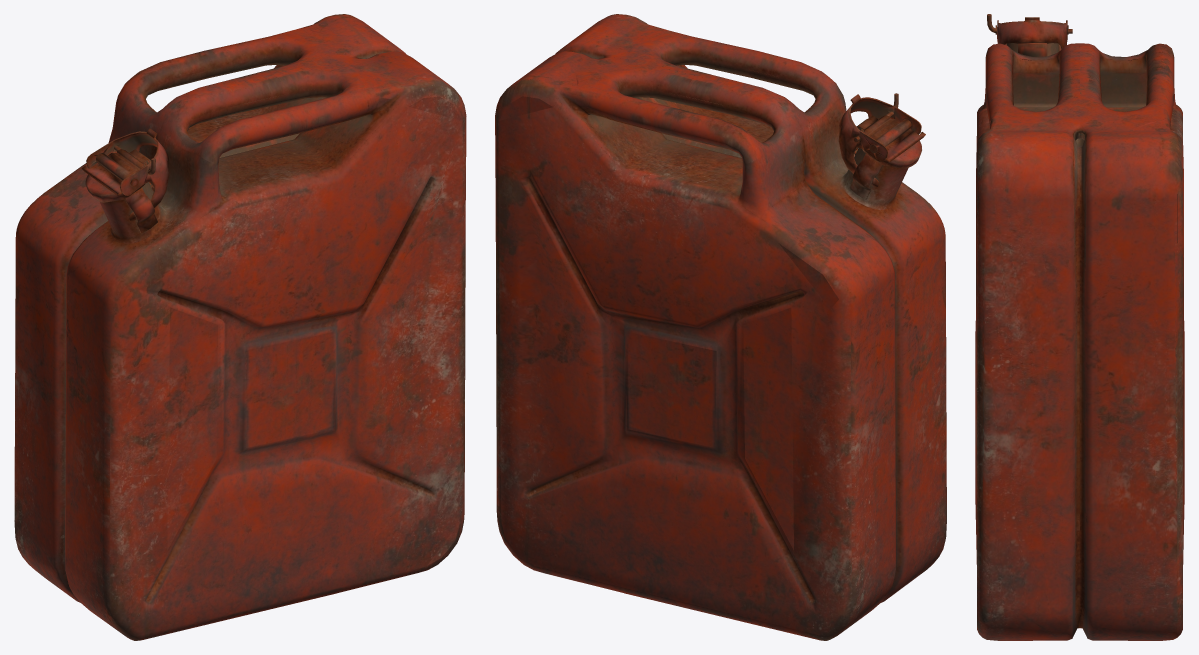
Rendered from metal_jerrycan_game.gltf.
The picture shows the model from 3 angles, left to right: view 1: azimuth 30°, elevation 25°; view 2: azimuth 150°, elevation 25°; view 3: azimuth 270°, elevation 25°; orthographic projection. The views are drawn at different scales.
Parts seen in each view (by area): view 1: metal_jerrycan; view 2: metal_jerrycan; view 3: metal_jerrycan.
Boxes of the visible parts, x1,y1,x2,y2 form: metal_jerrycan: (14,14,466,640); metal_jerrycan: (495,14,946,640); metal_jerrycan: (975,14,1184,640).
Size of the model in its own units: 0.3503 by 0.455 by 0.1719.
1 material, 1 textured.
